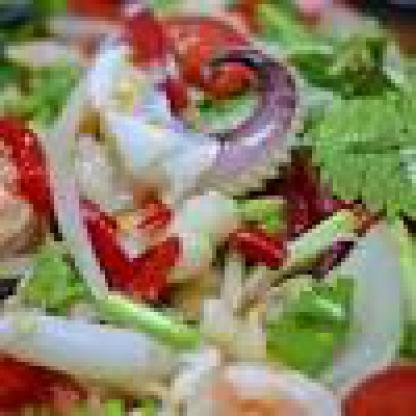Yum: (0, 8, 412, 412)
